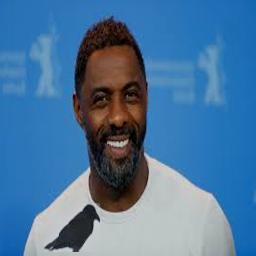Crow: (44, 203, 100, 252)
